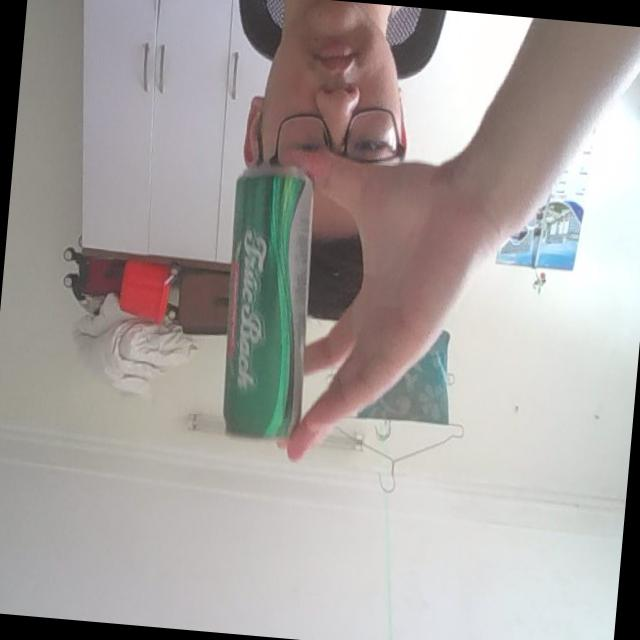Bia-Truc-Bach: (208, 159, 324, 447)
